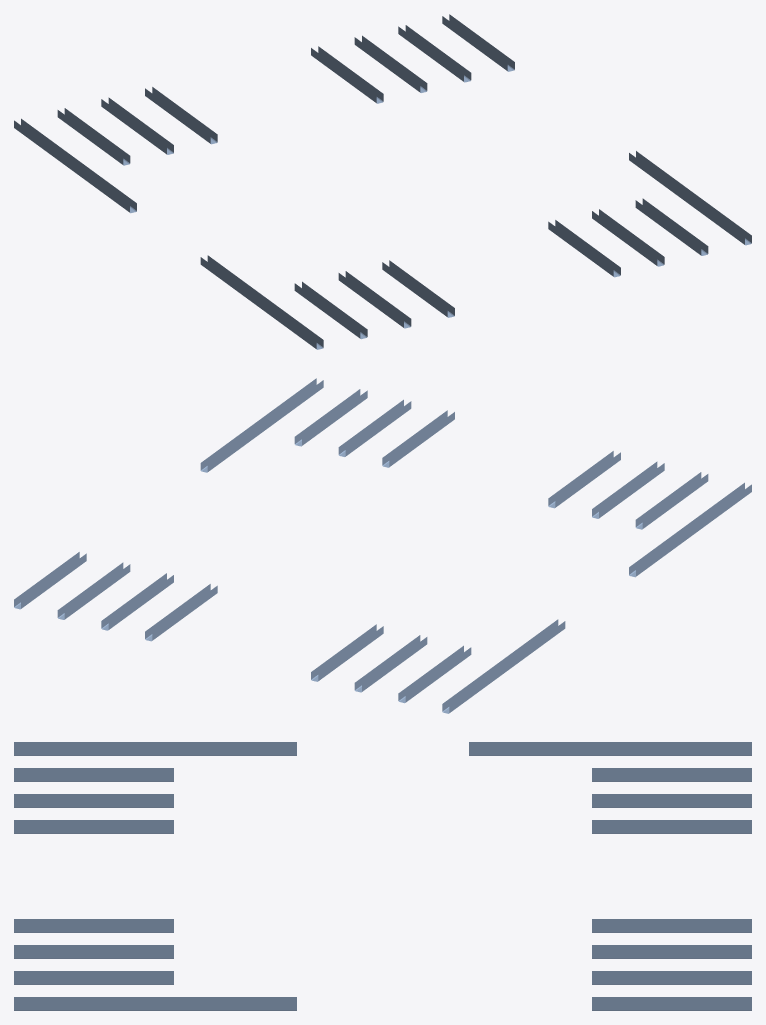
The model's file is SM_Floor2_Beams.fbx.
3 views of the same model, one above another, from view 1: azimuth 30°, elevation 25°; view 2: azimuth 150°, elevation 25°; view 3: azimuth 270°, elevation 25° (orthographic). The views are drawn at different scales.
Parts seen in each view (by area): view 1: pCube286, pCube289, pCube293, pCube299, pCube290, pCube297, pCube285, pCube298, pCube295, pCube284, pCube292, pCube296 (+4 smaller); view 2: pCube293, pCube289, pCube286, pCube290, pCube298, pCube299, pCube292, pCube297, pCube288, pCube285, pCube294, pCube296 (+4 smaller); view 3: pCube286, pCube289, pCube293, pCube284, pCube285, pCube287, pCube288, pCube290, pCube291, pCube292, pCube294, pCube295 (+4 smaller).
Boxes of the visible parts, x1,y1,x2,y2 form: pCube286: [200, 255, 323, 349]; pCube289: [629, 151, 751, 245]; pCube293: [14, 118, 136, 213]; pCube299: [635, 198, 708, 255]; pCube290: [398, 25, 471, 82]; pCube297: [57, 108, 130, 165]; pCube285: [338, 271, 411, 328]; pCube298: [294, 281, 367, 339]; pCube295: [354, 35, 427, 92]; pCube284: [382, 260, 454, 317]; pCube292: [101, 97, 173, 154]; pCube296: [442, 14, 514, 71]; pCube293: [442, 619, 565, 713]; pCube289: [200, 378, 323, 472]; pCube286: [629, 482, 751, 577]; pCube290: [57, 562, 130, 619]; pCube298: [635, 472, 708, 529]; pCube299: [294, 389, 367, 446]; pCube292: [354, 635, 427, 692]; pCube297: [398, 645, 471, 703]; pCube288: [338, 399, 411, 456]; pCube285: [592, 461, 664, 518]; pCube294: [311, 624, 383, 681]; pCube296: [14, 552, 86, 609]; pCube286: [14, 742, 296, 755]; pCube289: [14, 997, 296, 1010]; pCube293: [469, 742, 751, 755]; pCube284: [14, 820, 173, 833]; pCube285: [14, 794, 173, 807]; pCube287: [14, 919, 173, 932]; pCube288: [14, 945, 173, 958]; pCube290: [592, 971, 751, 984]; pCube291: [592, 919, 751, 932]; pCube292: [592, 794, 751, 807]; pCube294: [592, 820, 751, 833]; pCube295: [592, 945, 751, 958].
Bounding box in the file's own units: 2491 × 45.52 × 3000.
